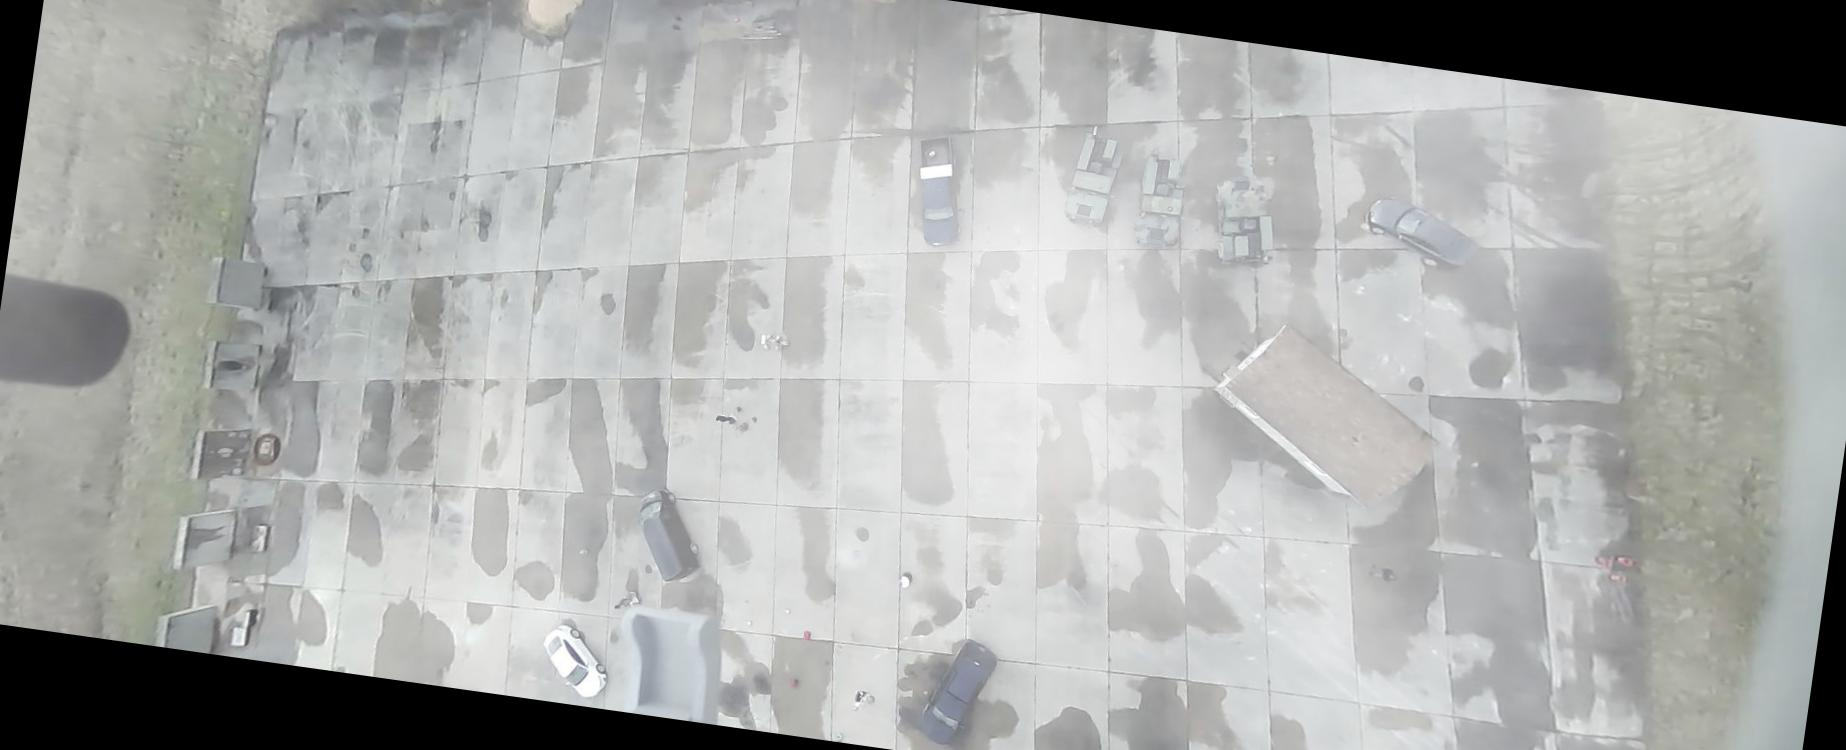vehicle: (1359, 192, 1481, 272), (917, 633, 1002, 749), (627, 486, 710, 586), (907, 133, 972, 251), (537, 622, 615, 701)
